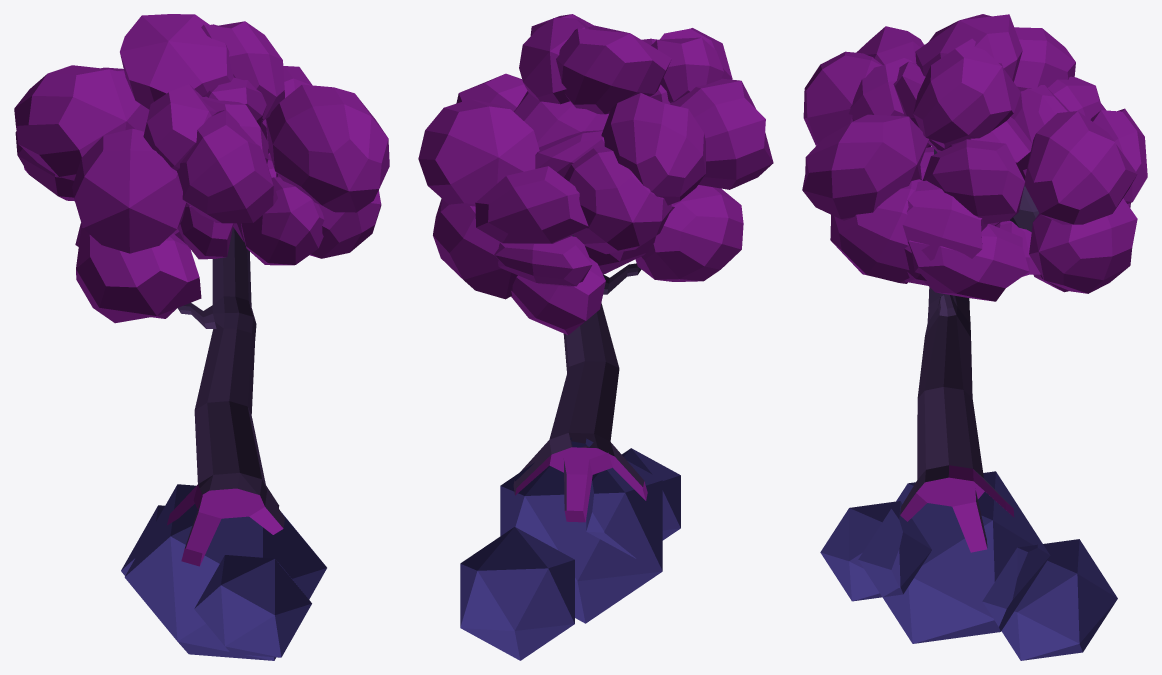
File: tree1colored.fbx
The picture shows the model from 3 angles, left to right: view 1: azimuth 30°, elevation 25°; view 2: azimuth 150°, elevation 25°; view 3: azimuth 270°, elevation 25°; orthographic projection. The views are drawn at different scales.
Parts seen in each view (by area): view 1: polySurface169; view 2: polySurface169; view 3: polySurface169.
Boxes of the visible parts, bbox=[...] form: polySurface169: bbox=[14, 14, 389, 660]; polySurface169: bbox=[418, 14, 773, 660]; polySurface169: bbox=[802, 14, 1147, 660].
Bounding box in the file's own units: 1437 × 2938 × 1521.
